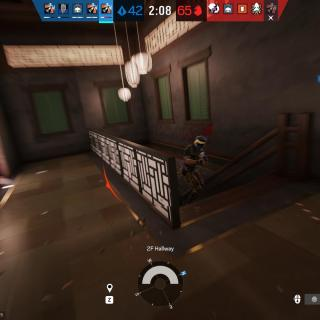Character: (177, 134, 212, 206)
Head: (193, 136, 207, 150)
